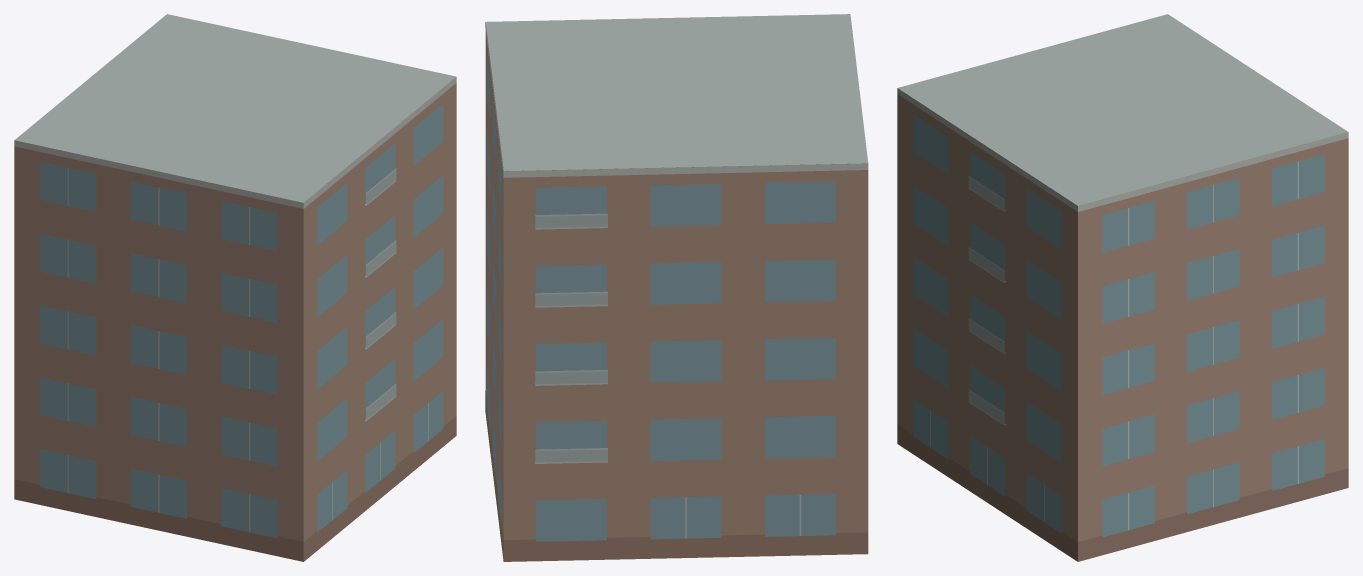
Rendered from residential-2f8f9aa6-72a8-4ba8-97d4-a9bc59f37a13.glb.
The picture shows the model from 3 angles, left to right: view 1: azimuth 30°, elevation 25°; view 2: azimuth 150°, elevation 25°; view 3: azimuth 270°, elevation 25°; orthographic projection. The views are drawn at different scales.
Parts seen in each view (by area): view 1: residential-2f8f9aa6-72a8-4ba8-97d4-a9bc59f37a13.tmp; view 2: residential-2f8f9aa6-72a8-4ba8-97d4-a9bc59f37a13.tmp; view 3: residential-2f8f9aa6-72a8-4ba8-97d4-a9bc59f37a13.tmp.
Boxes of the visible parts, left/top/right/bottom form: residential-2f8f9aa6-72a8-4ba8-97d4-a9bc59f37a13.tmp: left=14, top=14, right=456, bottom=561; residential-2f8f9aa6-72a8-4ba8-97d4-a9bc59f37a13.tmp: left=485, top=14, right=868, bottom=561; residential-2f8f9aa6-72a8-4ba8-97d4-a9bc59f37a13.tmp: left=897, top=14, right=1348, bottom=561.
Bounding box in the file's own units: 16.56 × 14.3 × 16.44.
